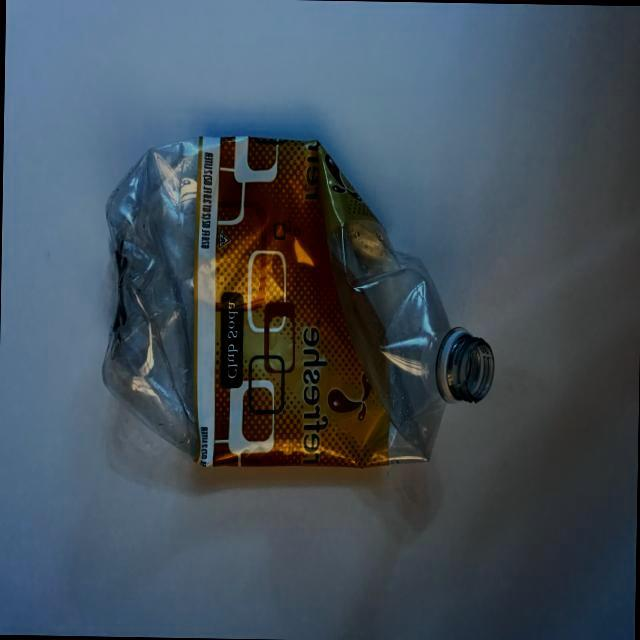plastic: (76, 112, 506, 572)
